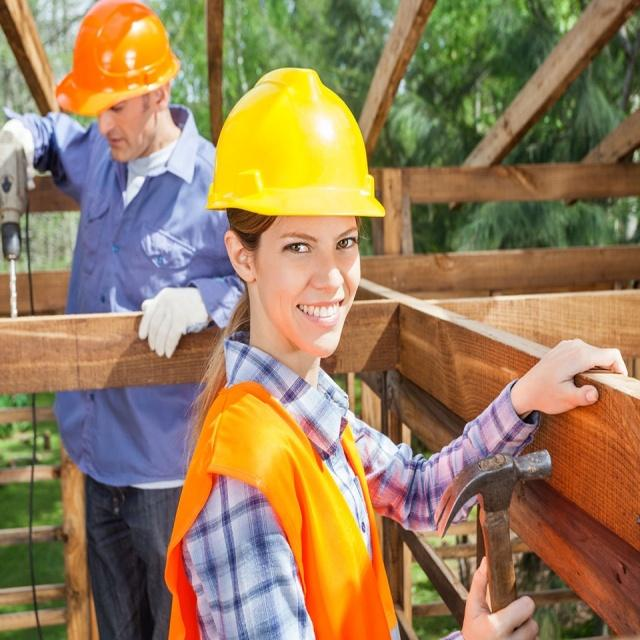helmet: (204, 82, 392, 478), (53, 7, 180, 224)
vest: (177, 491, 399, 640)
